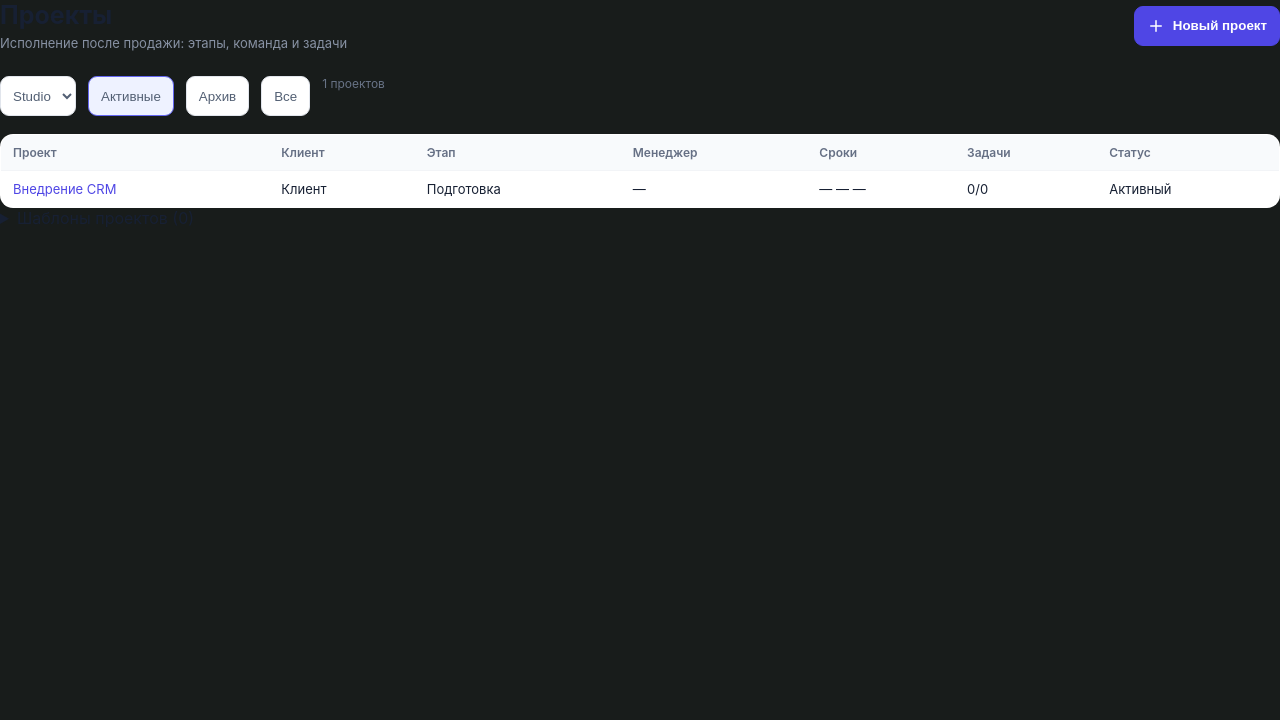
Scenario: projects › lists projects, filters by tab and creates a manual project
The width and height of the screenshot is (1280, 720).
Expected: the button "Внедрение CRM" is shown, [13, 181, 116, 197]
Click the button "Новый проект".
click(1207, 26)  # box [1134, 6, 1279, 46]
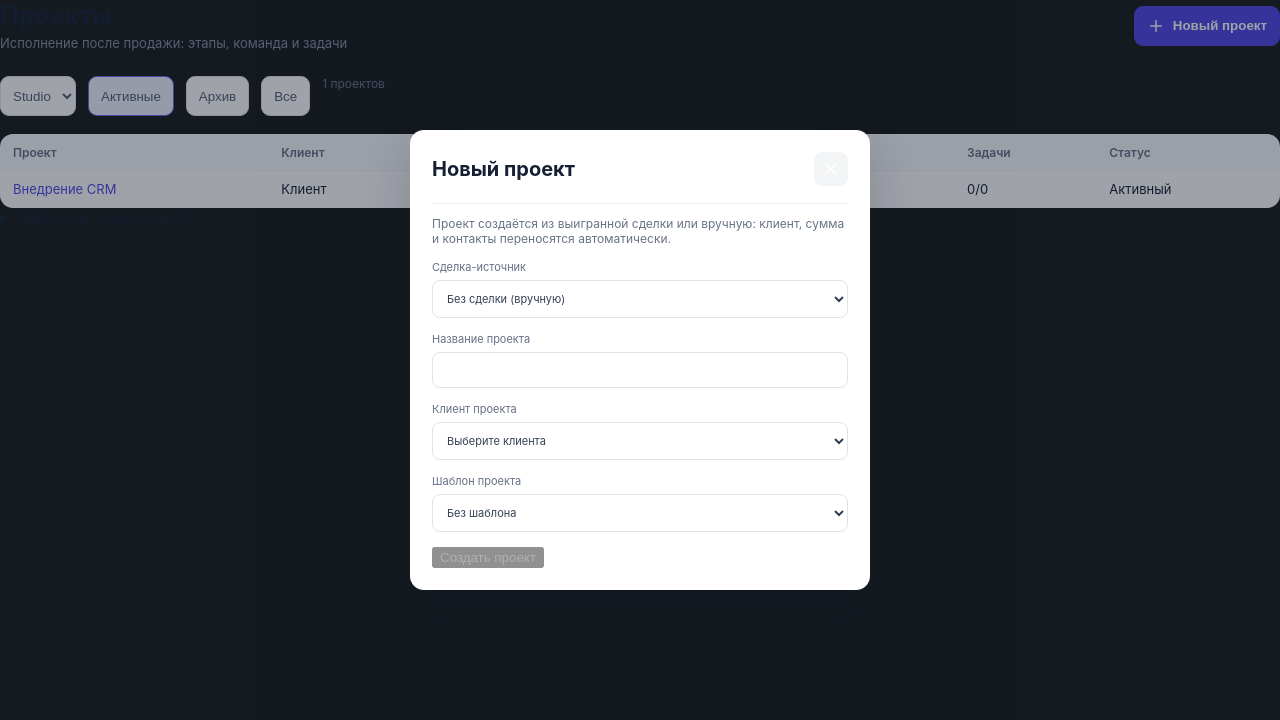
Type "Новый сайт" into the field labelled "Название проекта".
click(640, 370); type("Новый сайт")  # box [432, 352, 848, 388]
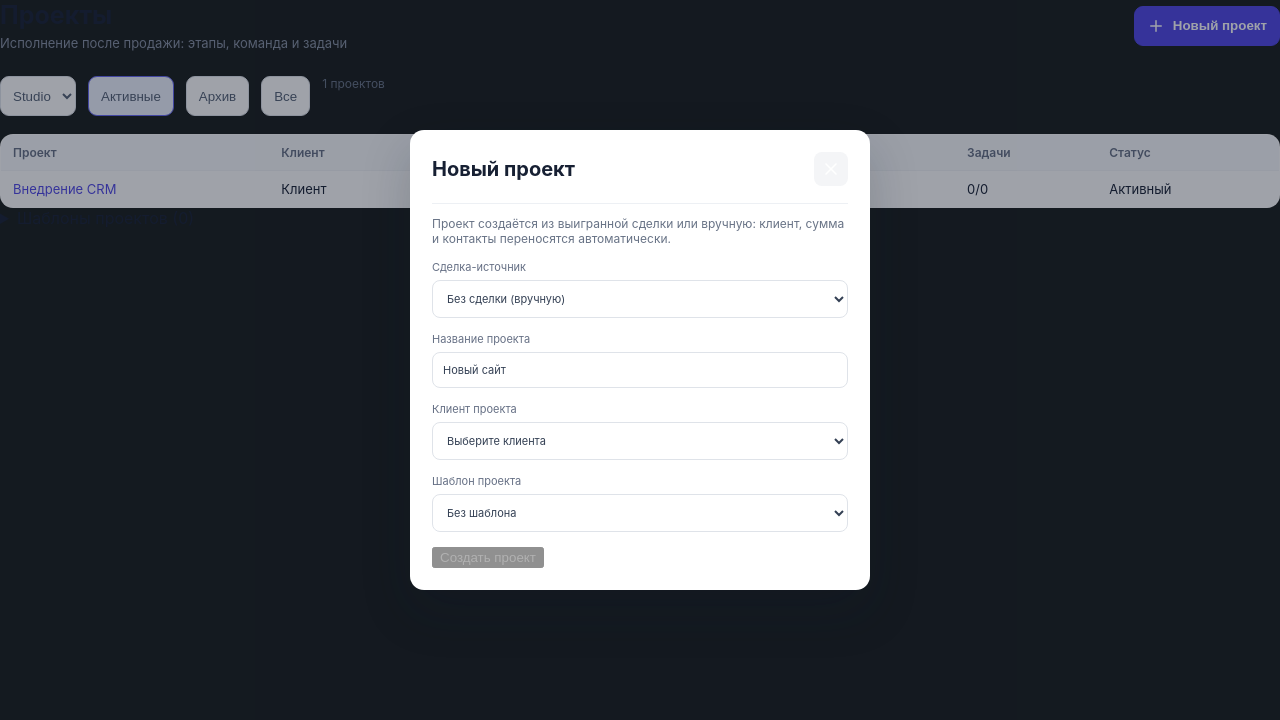
Select "Клиент" in the dropdown labelled "Клиент проекта" at (640, 441), box [432, 422, 848, 460]
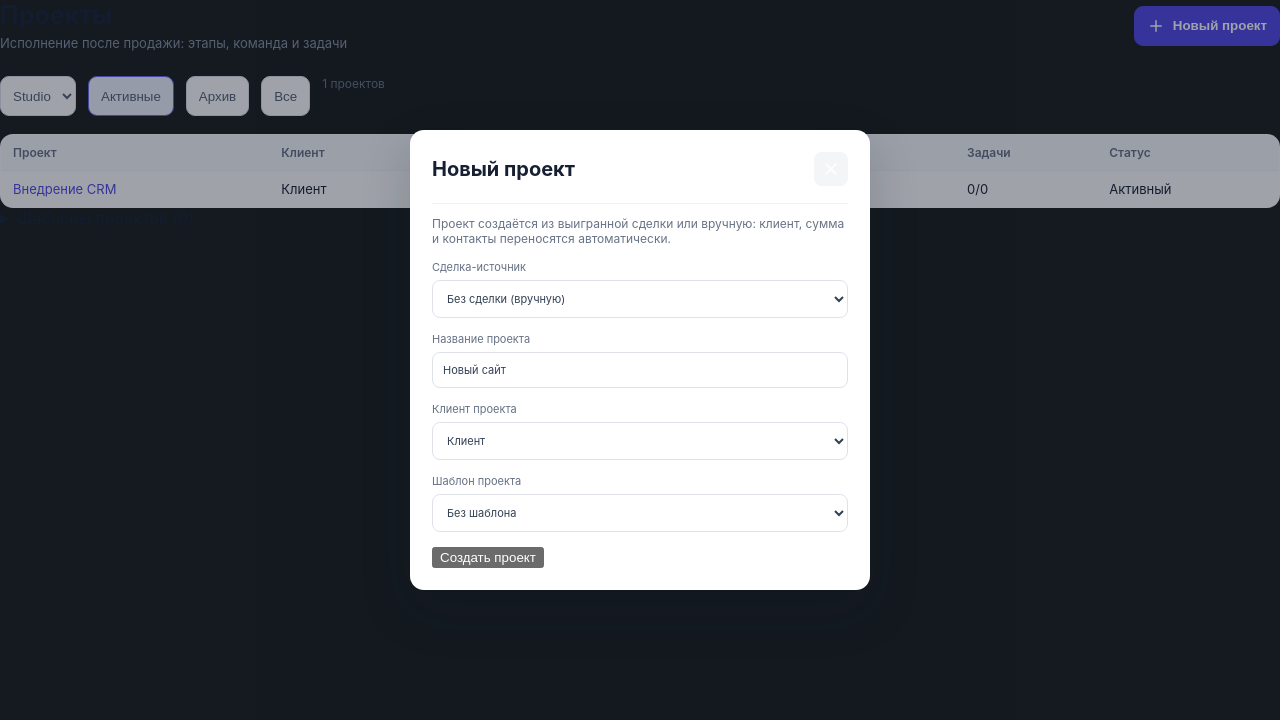
Click the button "Создать проект".
click(488, 558)  # box [432, 547, 544, 568]
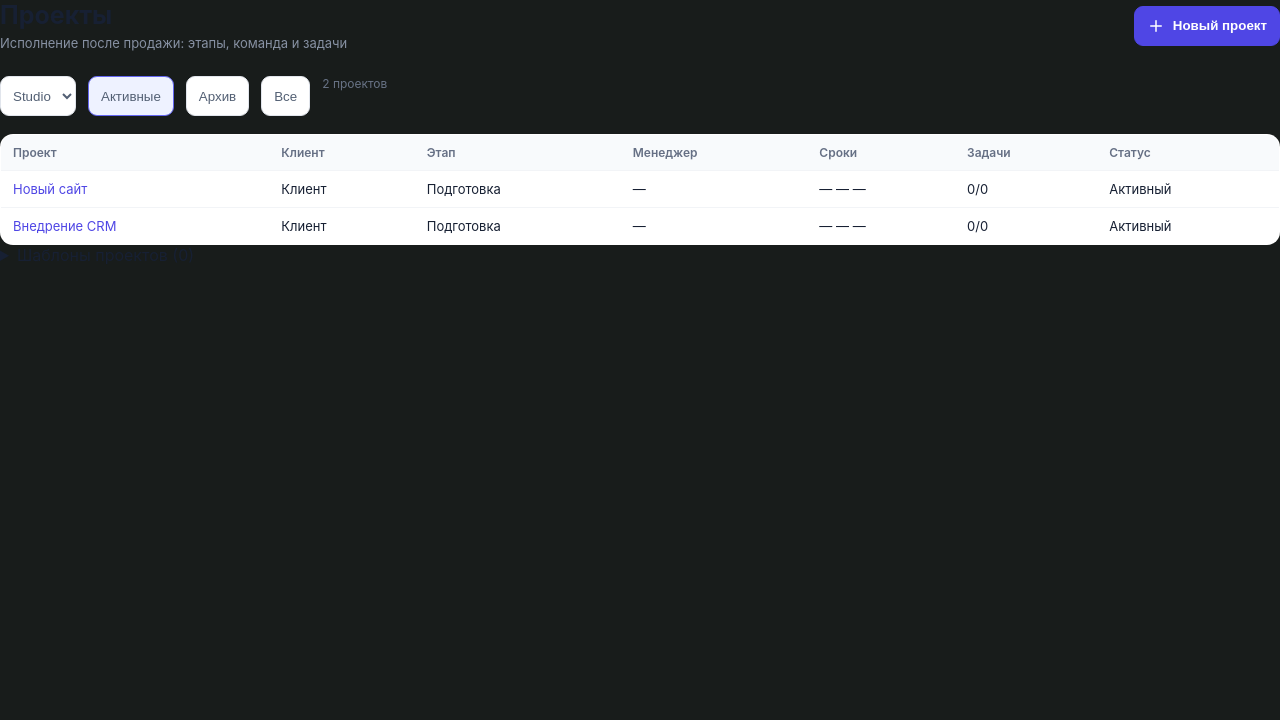
Expected: the button "Новый сайт" is shown, [13, 181, 87, 197]
Click the button "Архив".
click(218, 96)  # box [186, 76, 249, 116]
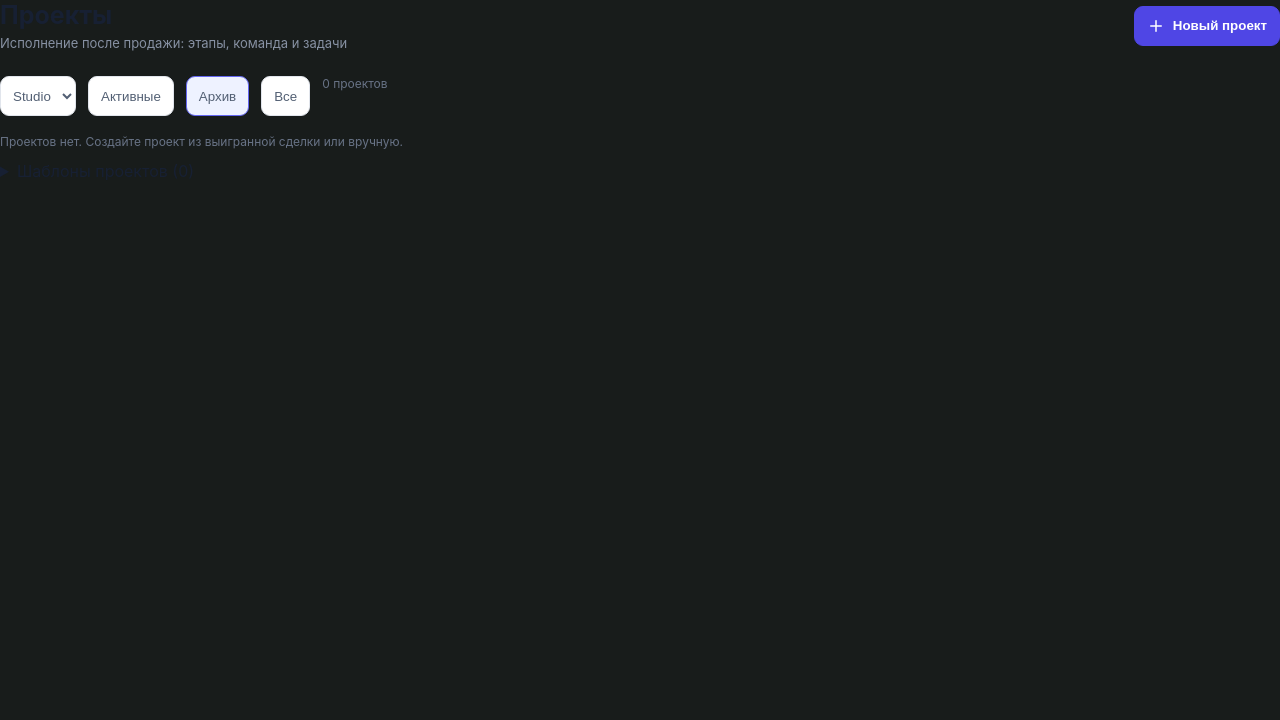
Expected: the button "Новый сайт" is gone
